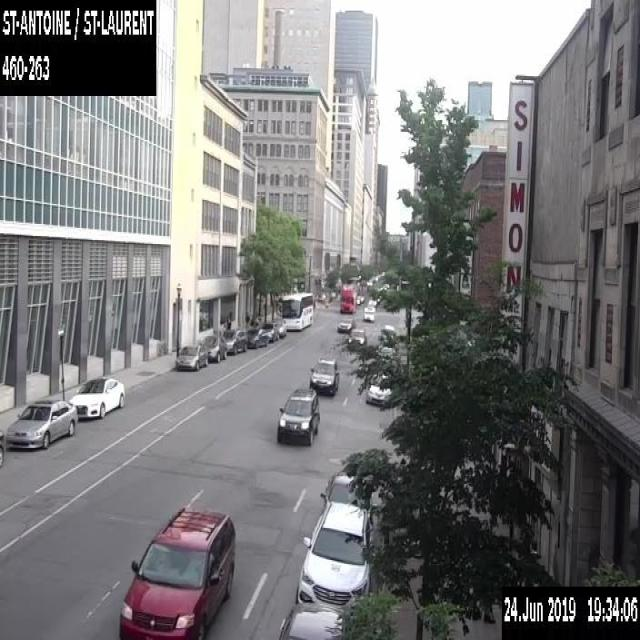bus: (281, 290, 313, 330), (340, 284, 356, 312)
pedestrian: (244, 311, 249, 328), (225, 318, 231, 330), (249, 317, 253, 328), (254, 319, 258, 327)
vehicle: (117, 505, 235, 639), (296, 500, 374, 606), (4, 397, 77, 450), (276, 600, 346, 639), (320, 472, 373, 521), (68, 376, 125, 419), (277, 387, 319, 445), (308, 356, 338, 396), (365, 372, 392, 407), (175, 343, 207, 369), (198, 334, 226, 361), (222, 328, 247, 354), (246, 327, 268, 348), (348, 327, 366, 347), (260, 321, 278, 340), (336, 316, 356, 332), (270, 318, 286, 338), (378, 337, 394, 355), (0, 426, 6, 469), (362, 305, 376, 320), (382, 323, 394, 339), (368, 295, 377, 305), (357, 292, 364, 302), (356, 295, 360, 304)
